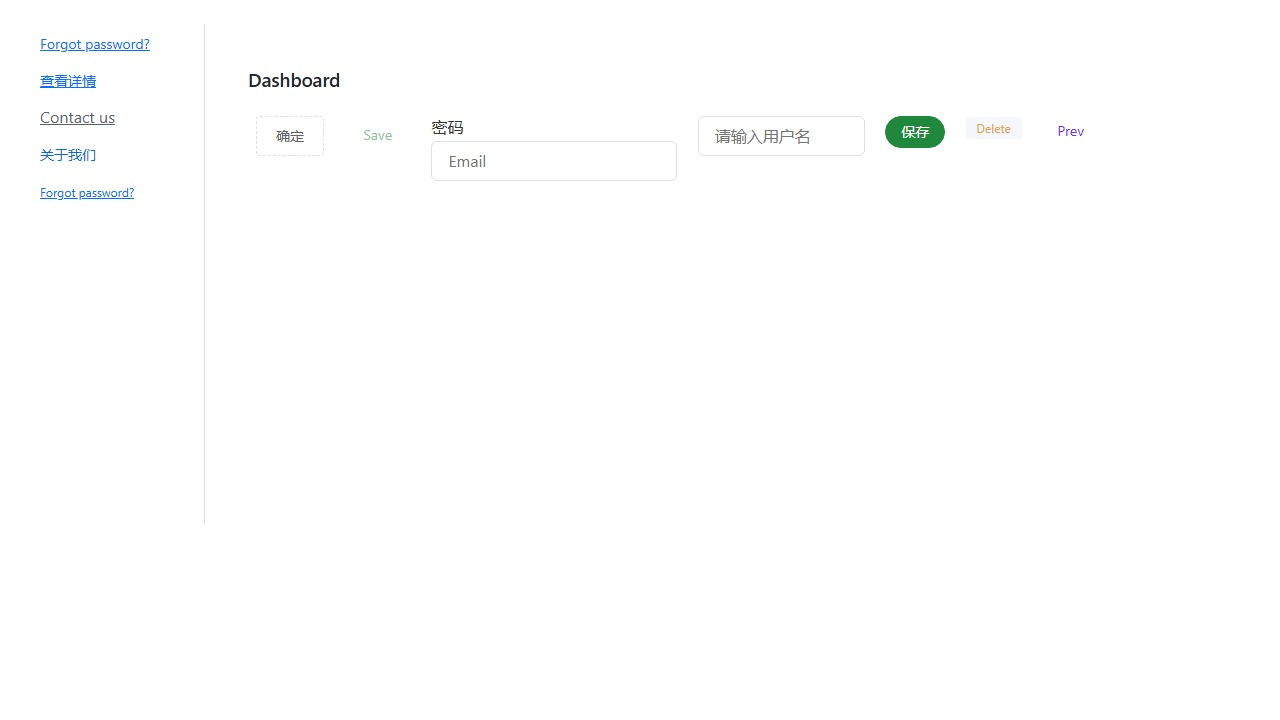button: (256, 116, 324, 156), (344, 116, 411, 154), (885, 116, 945, 148), (1042, 116, 1099, 146), (966, 117, 1022, 139)
input: (431, 141, 677, 181), (698, 116, 865, 156)
link: (40, 34, 150, 53), (40, 106, 115, 127), (40, 184, 134, 200), (40, 71, 96, 90), (40, 145, 96, 164)
